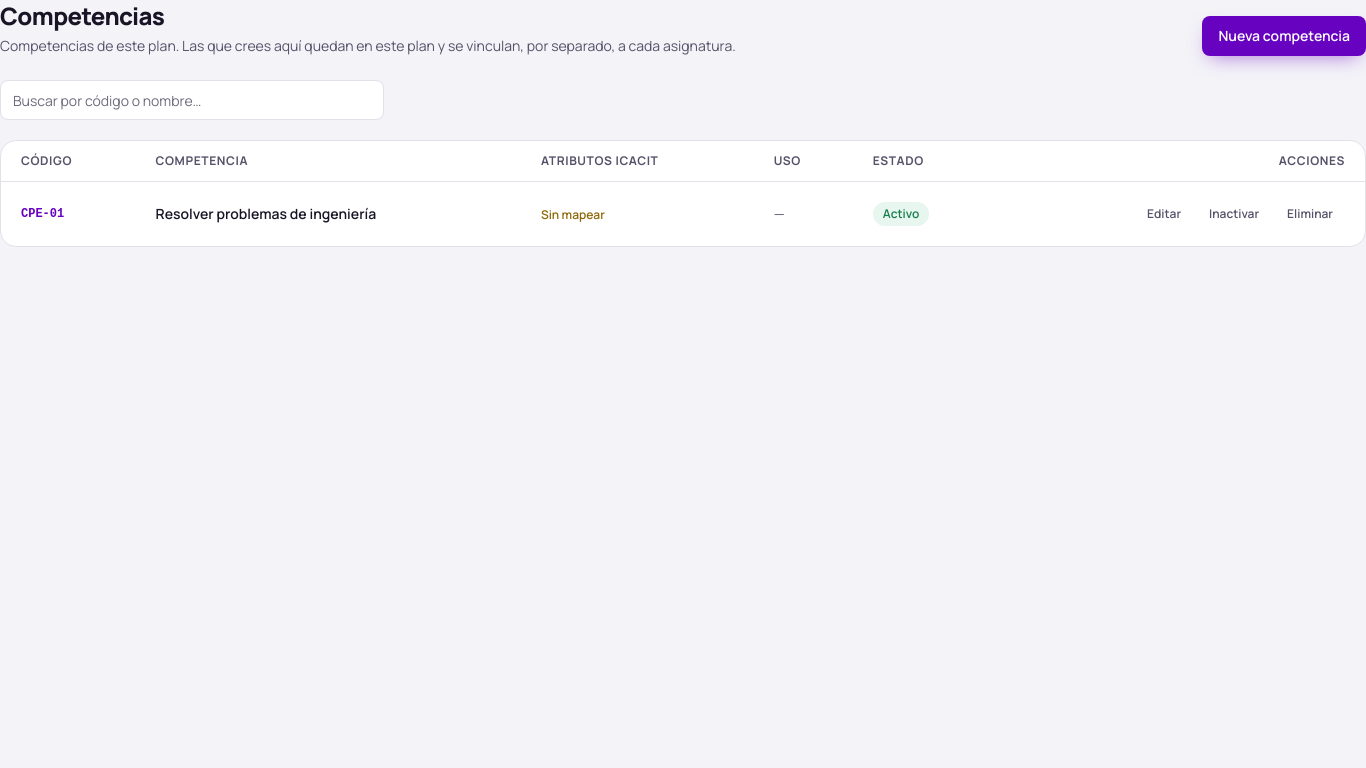
Test: CompetenciasPage — eliminar del plan (RF-CH-018) › si la usan asignaturas del plan, muestra el motivo del servidor
Click the button "Eliminar": (1310, 214) left=1275, top=198, right=1345, bottom=230
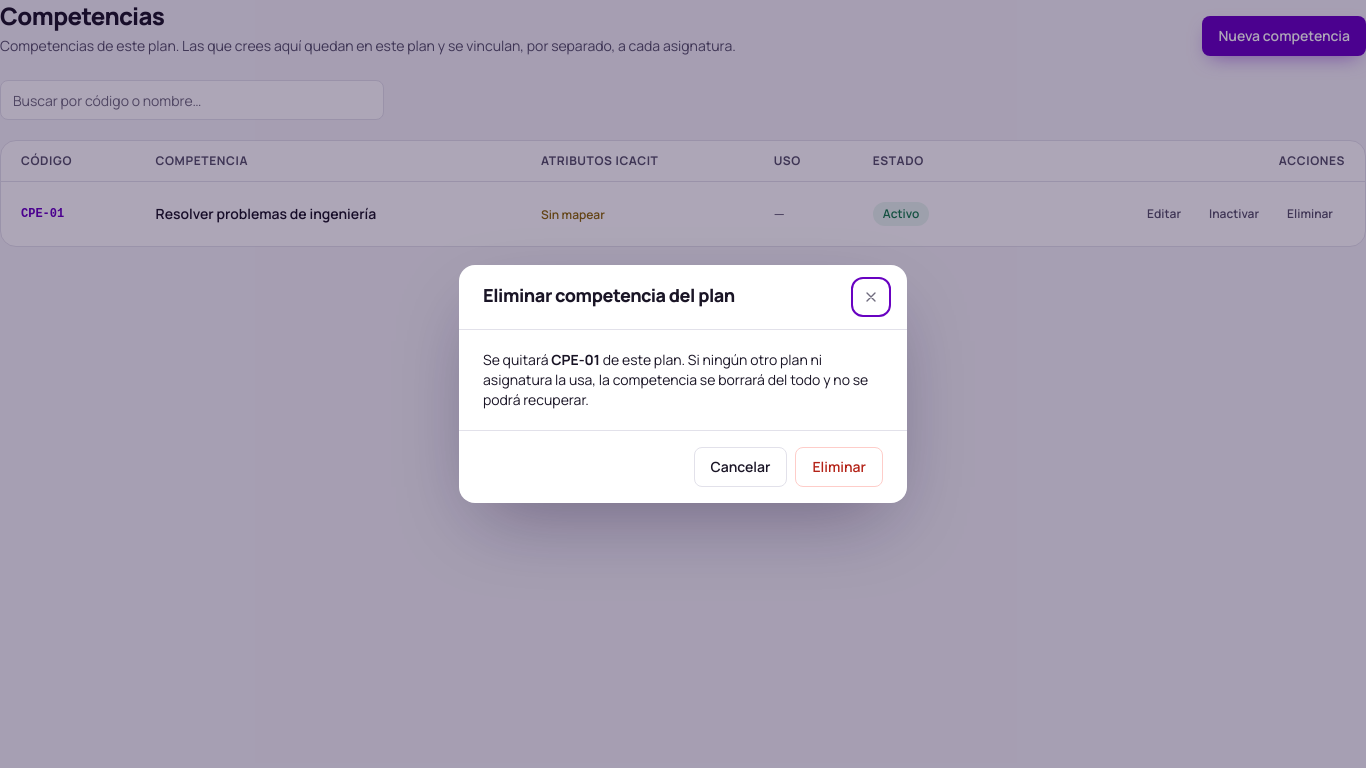
Click the button "Eliminar": (839, 467) left=795, top=447, right=883, bottom=487
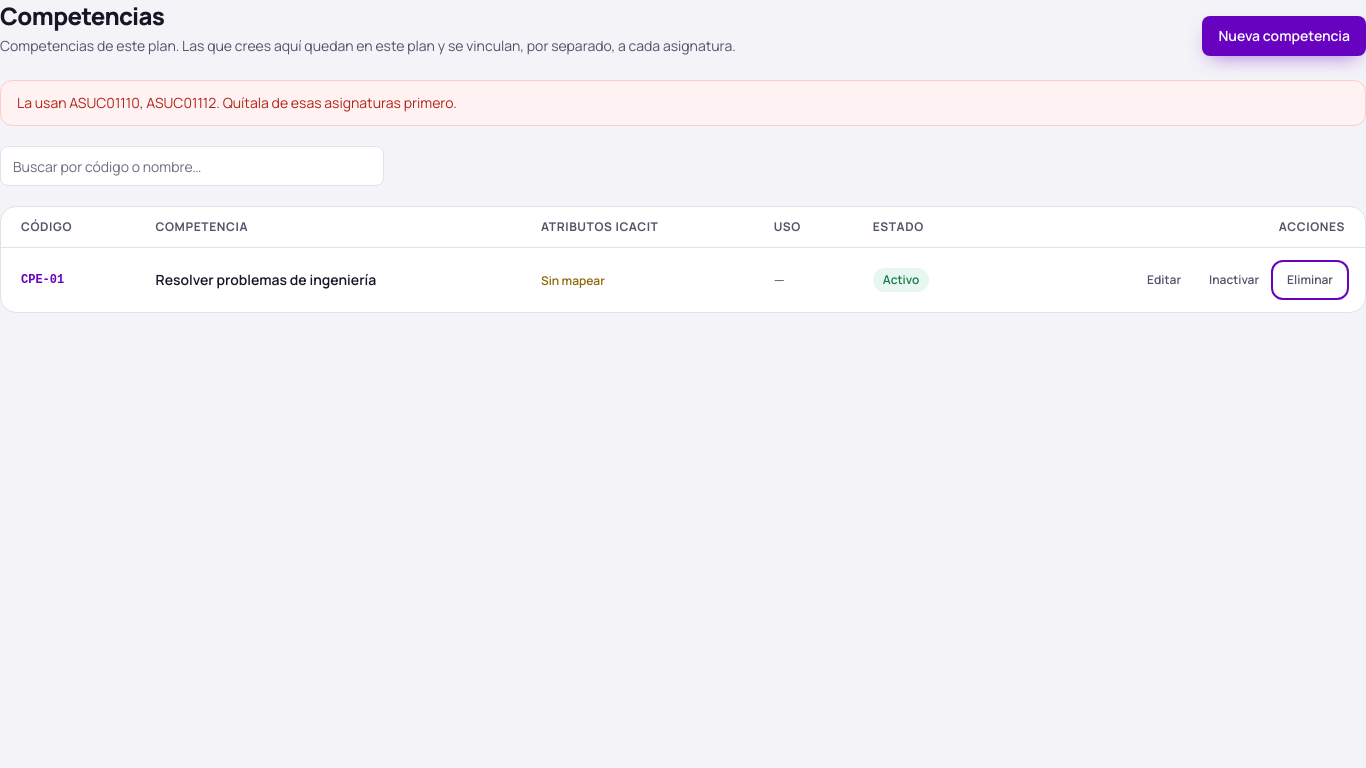
Now the text "La usan ASUC01110, ASUC01112. Quítala de esas asignaturas primero." is shown, box left=0, top=80, right=1365, bottom=126
